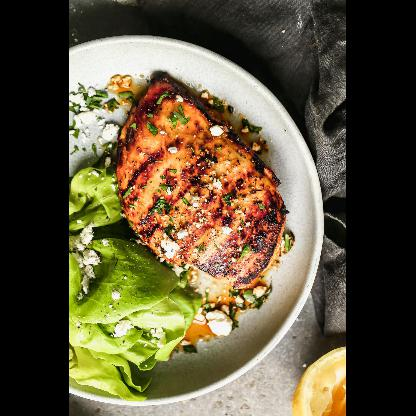grilled chicken breast: (118, 74, 286, 286)
salad: (70, 170, 202, 402)
